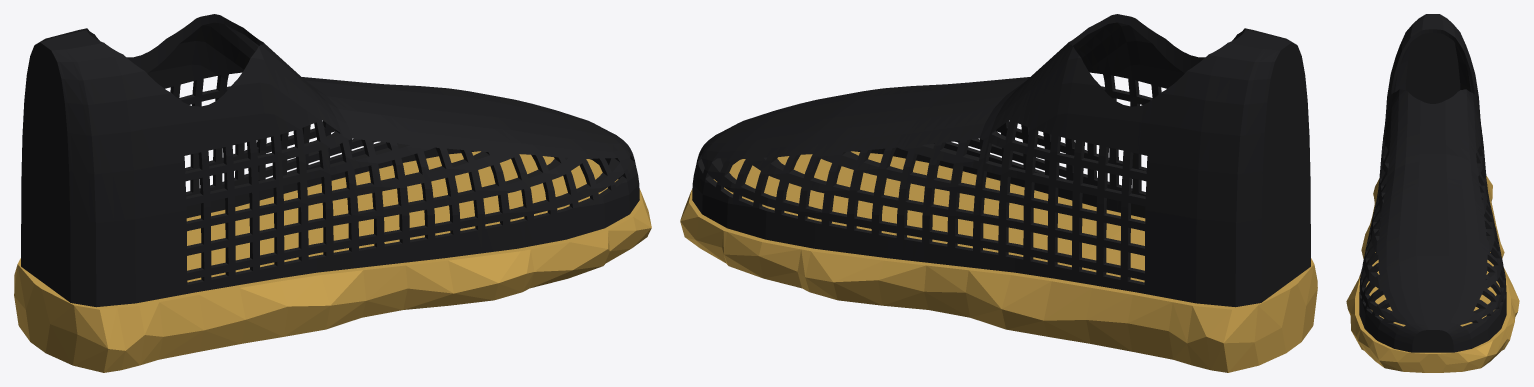
The model's file is gyroid-high.glb.
3 renders of one model, left to right at view 1: azimuth 30°, elevation 25°; view 2: azimuth 150°, elevation 25°; view 3: azimuth 270°, elevation 25°, orthographic. The views are drawn at different scales.
Parts seen in each view (by area): view 1: gyroid-high_upper, gyroid-high_sole; view 2: gyroid-high_upper, gyroid-high_sole; view 3: gyroid-high_upper, gyroid-high_sole.
Part boxes in pixels (x1,y1,x2,y2): gyroid-high_upper: (21, 14, 639, 307); gyroid-high_sole: (14, 151, 651, 372); gyroid-high_upper: (692, 14, 1310, 307); gyroid-high_sole: (680, 151, 1317, 372); gyroid-high_upper: (1359, 14, 1506, 352); gyroid-high_sole: (1346, 176, 1519, 372).
Size of the model in its own units: 0.3 by 0.1464 by 0.1244.
